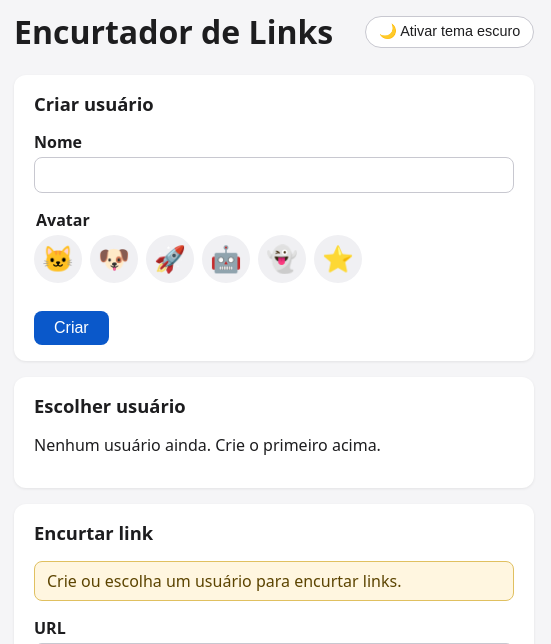
Test: App — criar e escolher usuário › usuários criados e o ativo sobrevivem ao recarregar
The width and height of the screenshot is (551, 644).
Later steps or results of the test are not shown.
Type "Dani" into the field labelled "Nome".
click(274, 175); type("Dani")  # box 34,157 -> 514,193
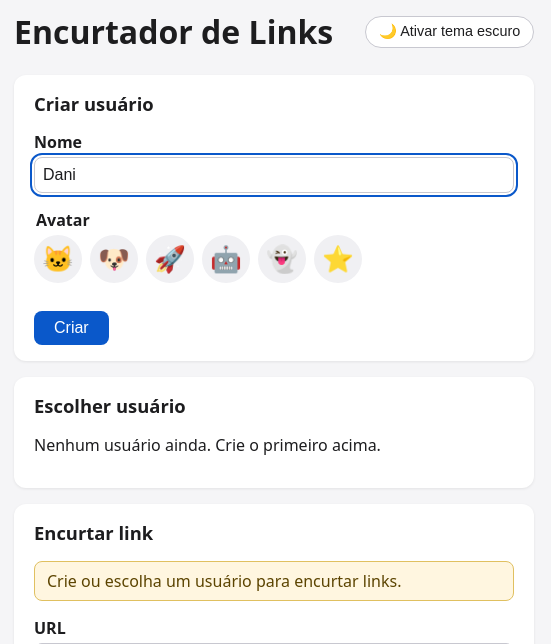
Click the button named "star".
click(338, 259)  # box 314,235 -> 362,283
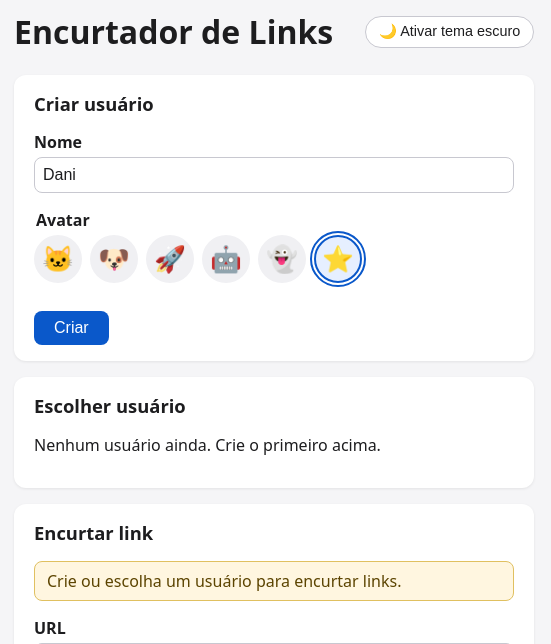
Click the button "Criar".
click(71, 328)  # box 34,311 -> 109,345
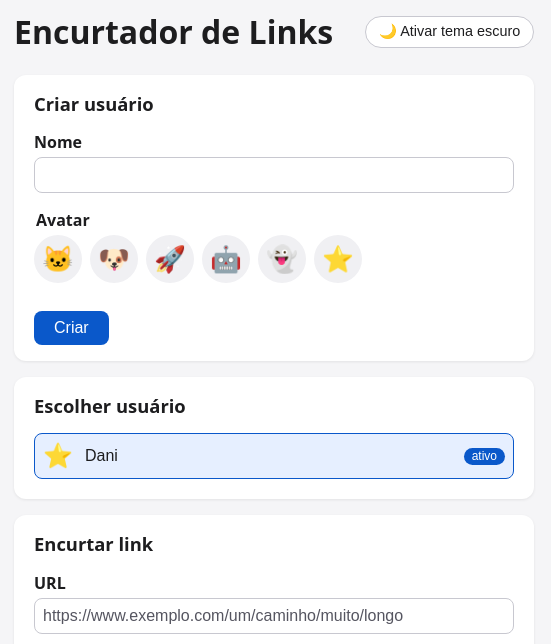
Expected: the button "⭐ Dani ativo" is shown, 34,433 -> 514,479
